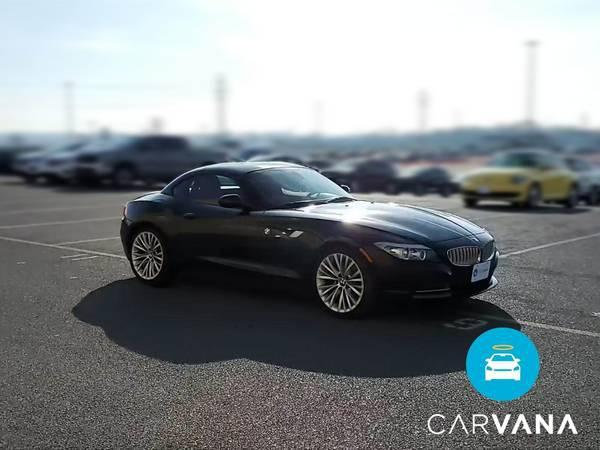Front_Bumper: (359, 249, 499, 302)
Front_Fender: (266, 214, 390, 291)
Front_Left_Door: (190, 200, 271, 281)
Front_Right_Window: (171, 174, 251, 211)
Front_Windshield: (247, 168, 356, 211)
Grille: (436, 238, 497, 267)
Hood: (274, 202, 492, 247)
Rear_Bumper: (119, 217, 130, 260)
Rear_Fender: (122, 192, 194, 265)
Right_Headlight: (376, 244, 443, 265)
Roof: (154, 162, 300, 211)
Wheel: (311, 245, 367, 314), (129, 224, 171, 278)
